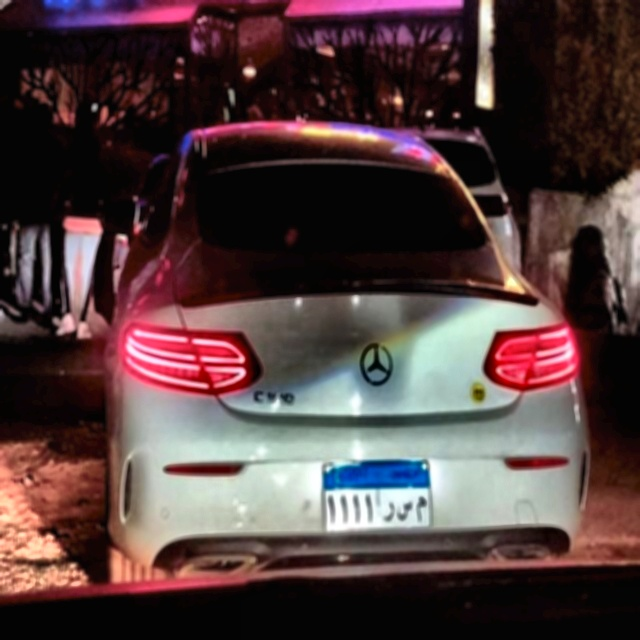License Plate: (320, 454, 433, 537)
